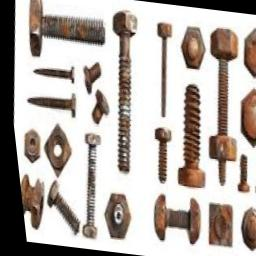Corroded-Bolt: (29, 0, 104, 56), (111, 11, 137, 171), (173, 85, 200, 187), (151, 129, 168, 185), (233, 154, 245, 194), (251, 160, 256, 194)
Corroded-Nut-and-Bolt: (204, 28, 237, 187)
